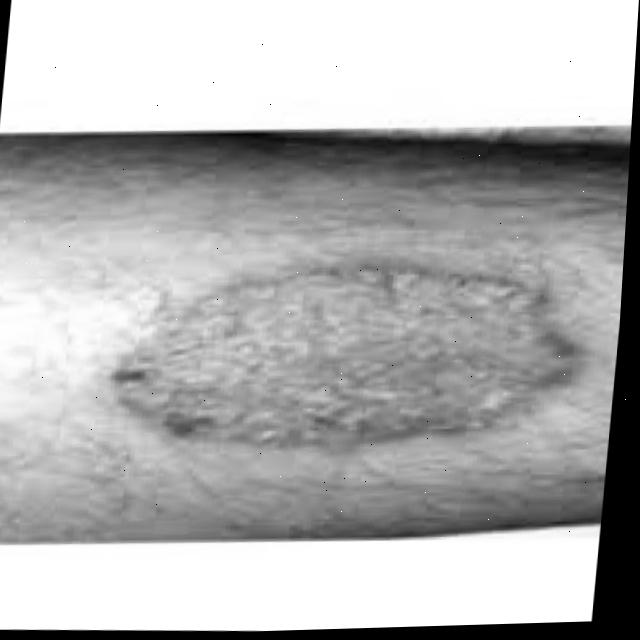Eczema: (95, 246, 584, 480)
